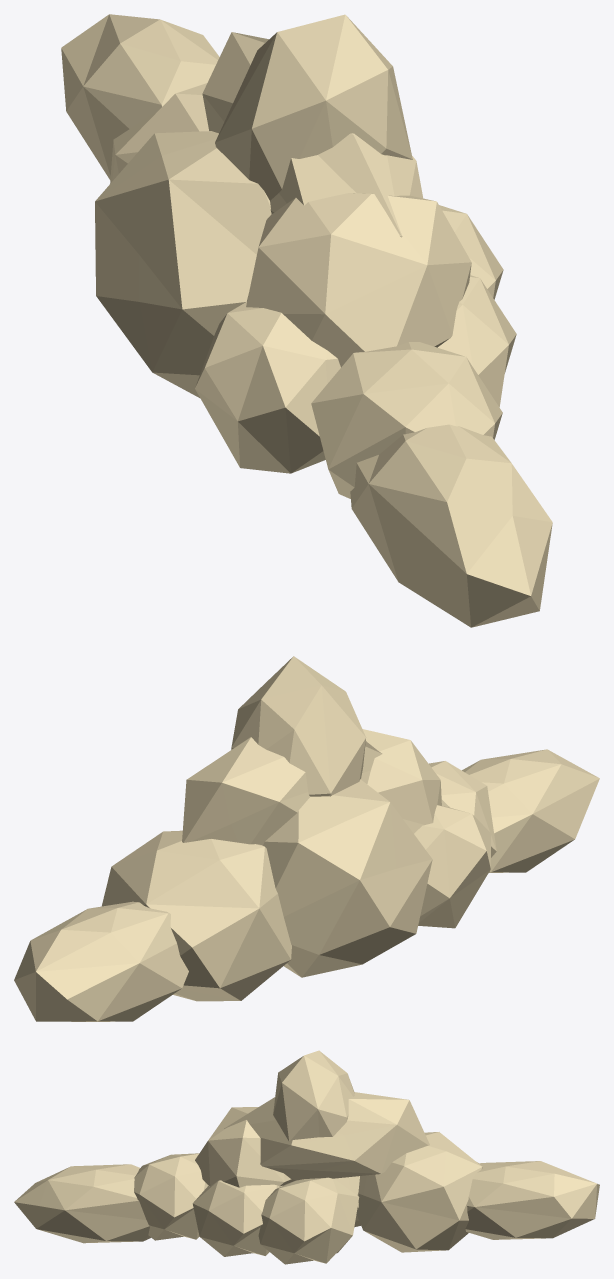
The model's file is cloud_2.fbx.
3 renders of one model, top to bottom at view 1: azimuth 30°, elevation 25°; view 2: azimuth 150°, elevation 25°; view 3: azimuth 270°, elevation 25°, orthographic. The views are drawn at different scales.
Visible parts, largest first — view 1: cloud_2; view 2: cloud_2; view 3: cloud_2.
Part boxes in pixels (box(x1,y1,x2,y2)): cloud_2: box(61, 14, 552, 627); cloud_2: box(14, 656, 599, 1021); cloud_2: box(14, 1050, 599, 1264).
Bounding box in the file's own units: 16.27 × 17.64 × 45.86.
